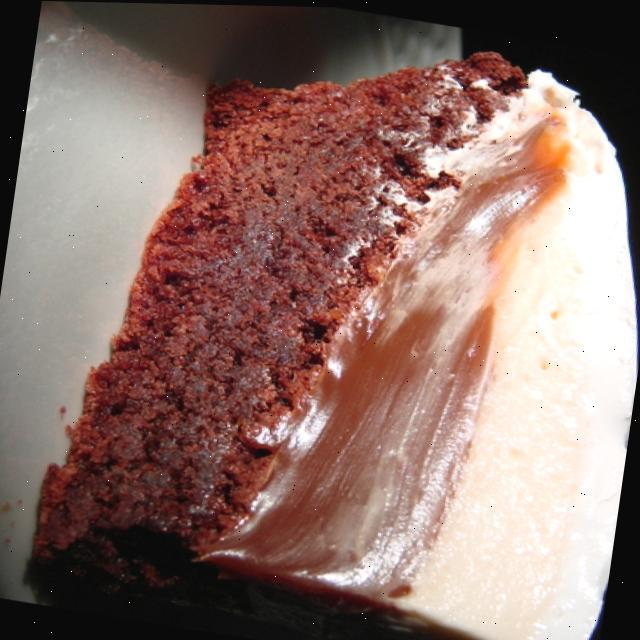蛋糕甜品: (38, 8, 640, 640)
